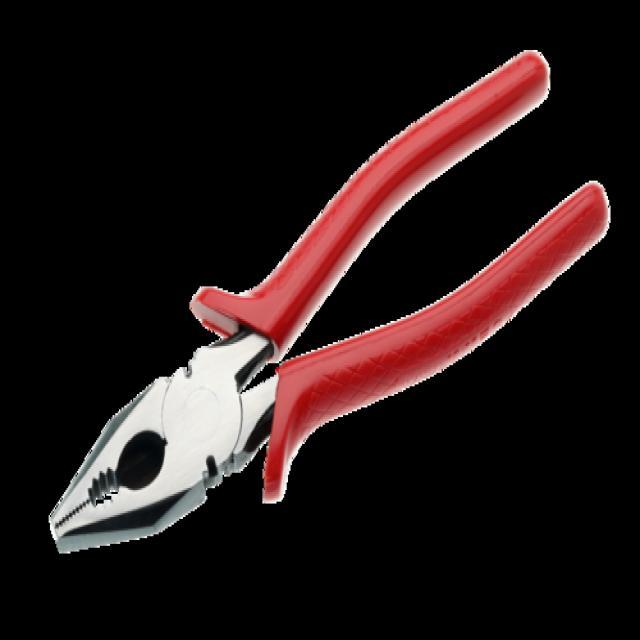pliers: (46, 42, 613, 552)
